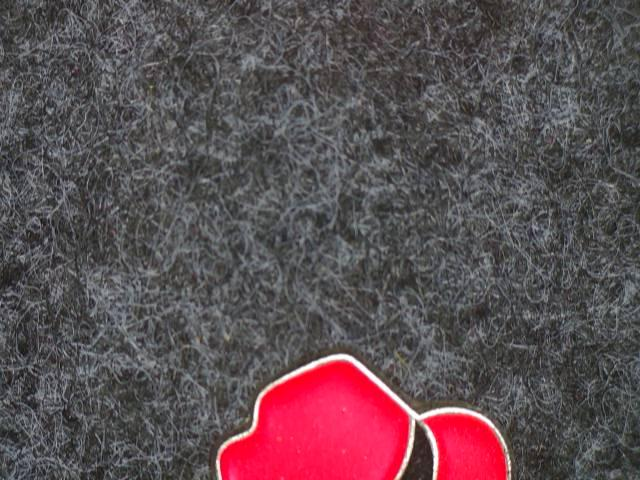Red-Hat: (162, 341, 524, 480)
